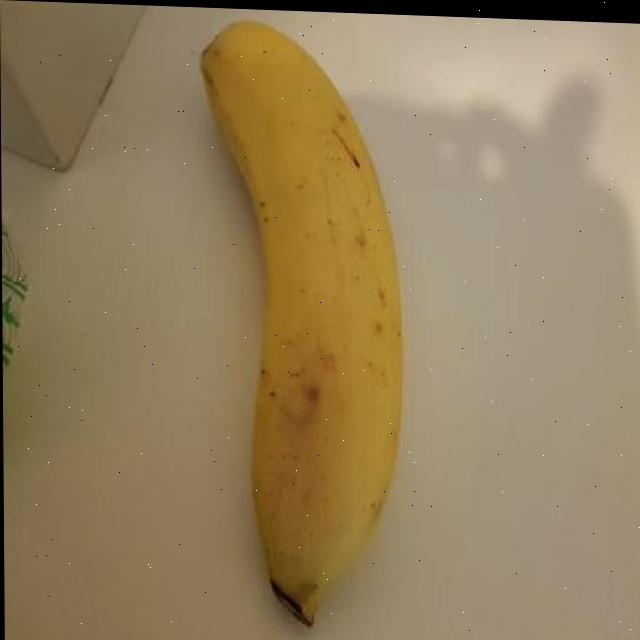banana: (194, 14, 414, 638)
